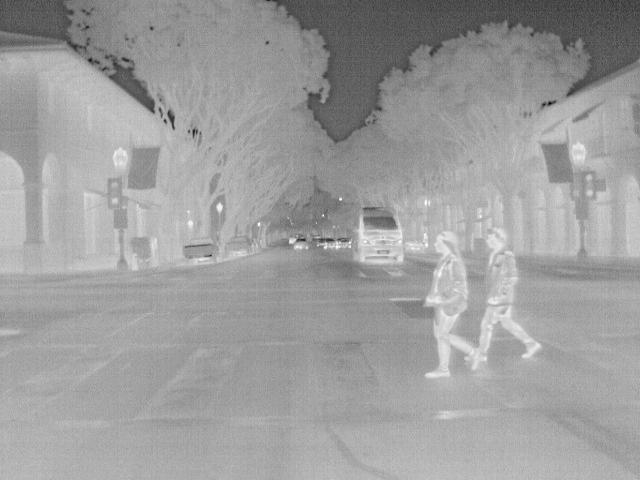car: (352, 207, 406, 264), (181, 236, 224, 264), (226, 233, 255, 258), (293, 234, 312, 252), (336, 236, 353, 252), (323, 236, 339, 250)
person: (421, 228, 488, 380), (476, 228, 542, 358)
